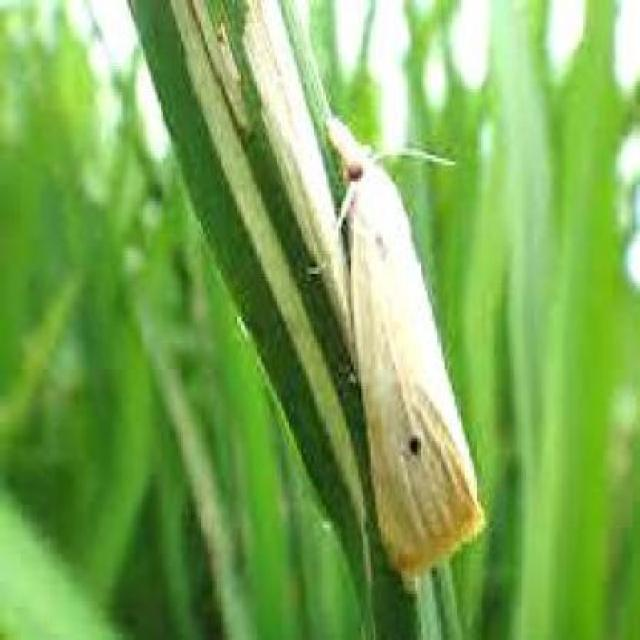stem-borer: (322, 110, 490, 581)
